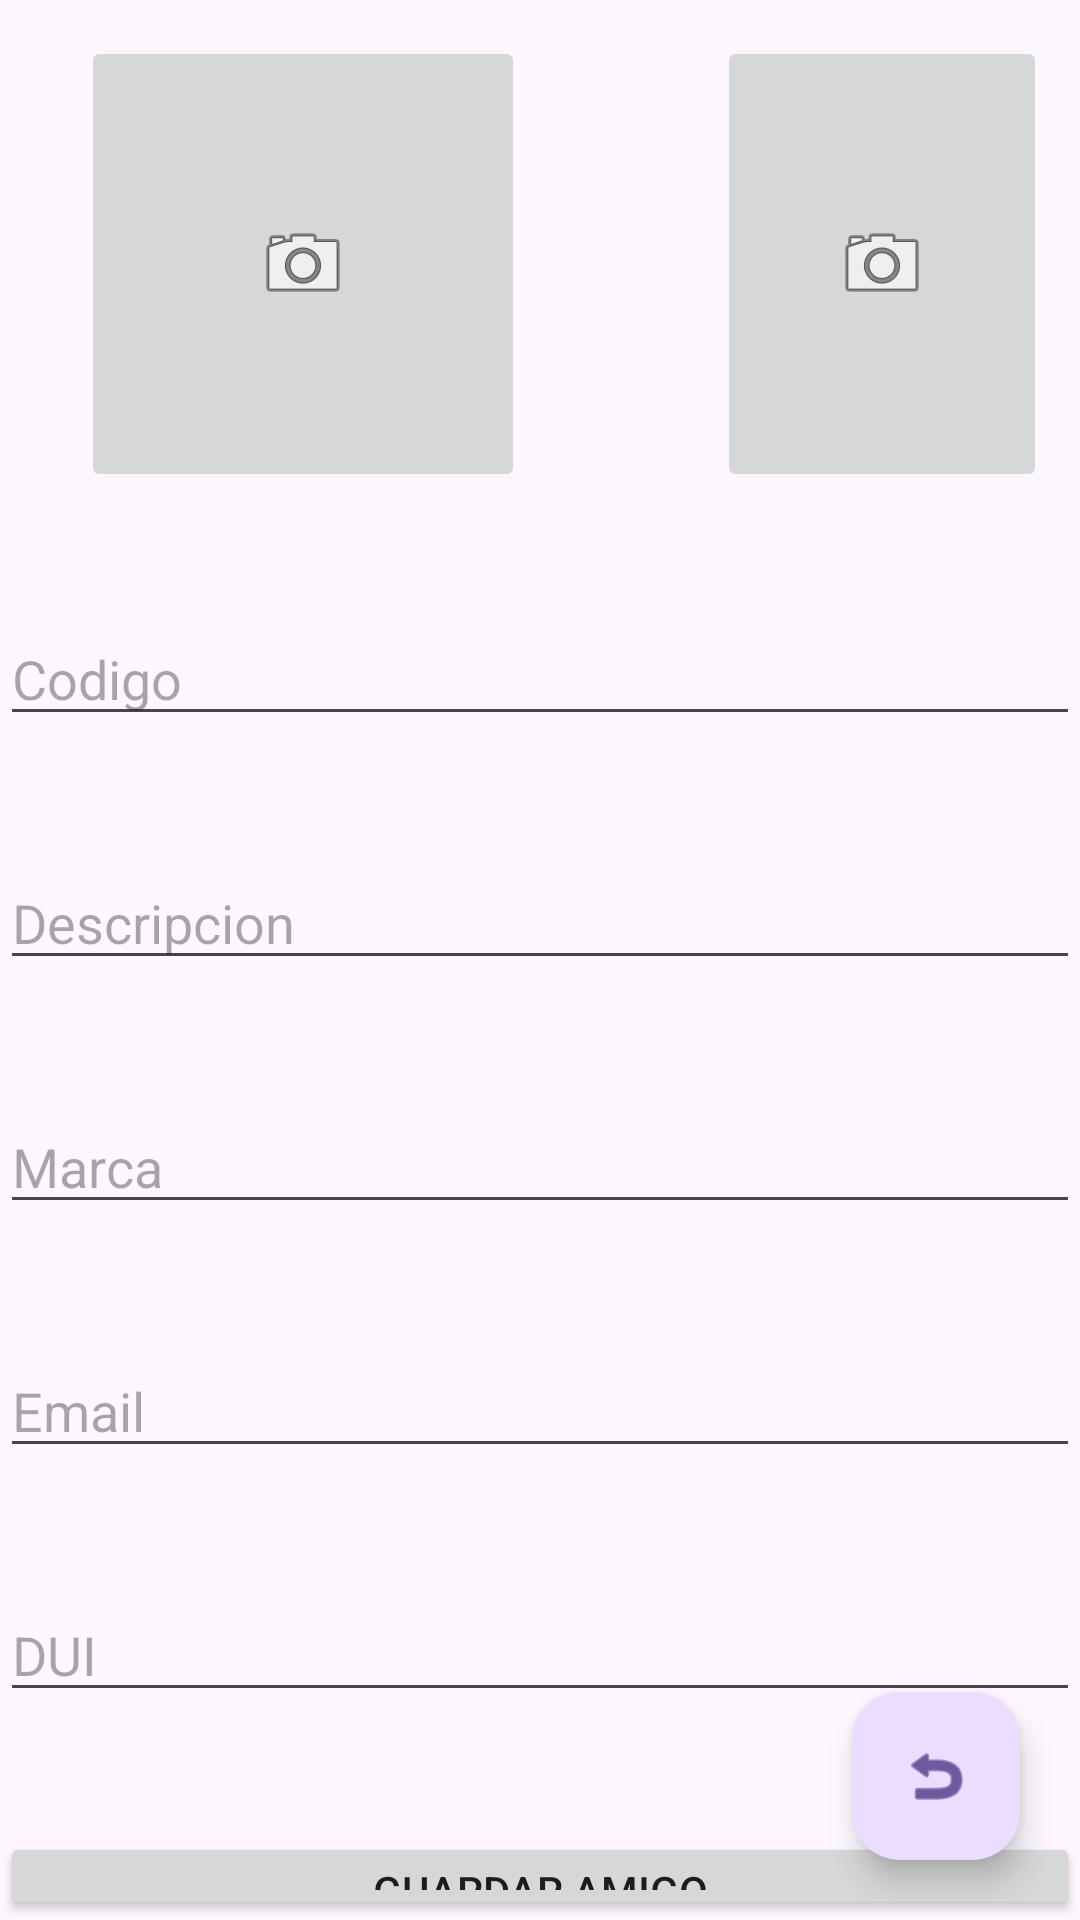

Screen size 1080px x 1920px. Icon name, then its center in pixels as [x,y]:
revert: [936,1776]
